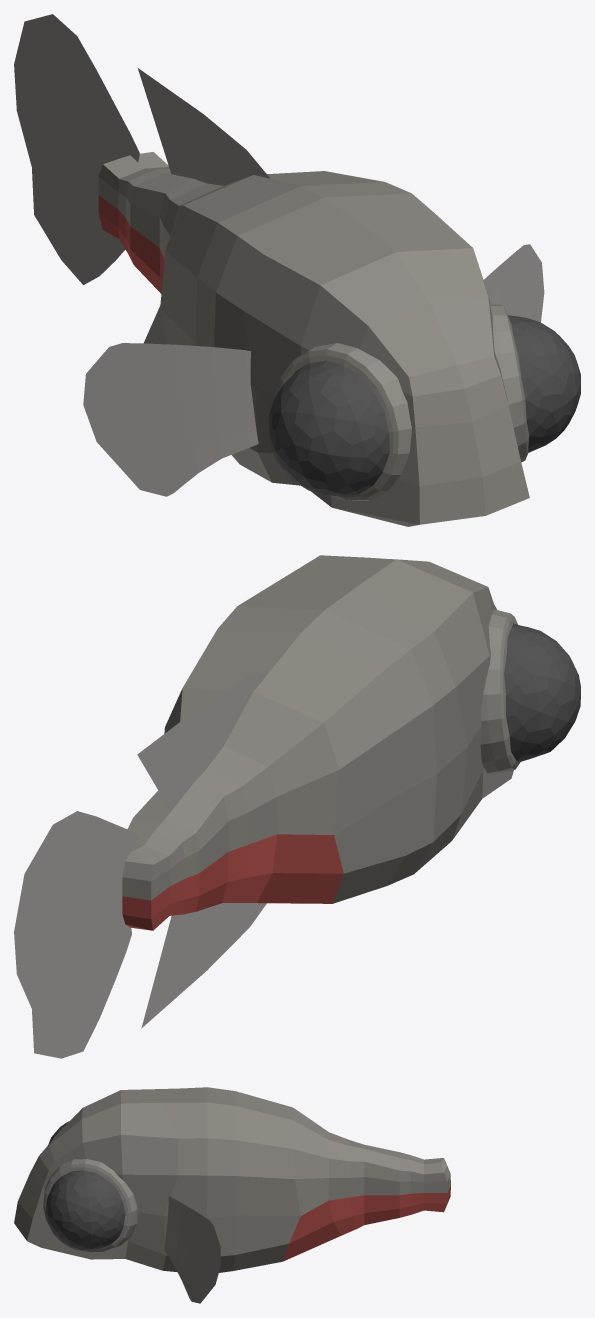
File: tetra.glb
The picture shows the model from 3 angles, top to bottom: view 1: azimuth 30°, elevation 25°; view 2: azimuth 150°, elevation 25°; view 3: azimuth 270°, elevation 25°; orthographic projection. The views are drawn at different scales.
Parts seen in each view (by area): view 1: cutefish__Tetra.glb; view 2: cutefish__Tetra.glb; view 3: cutefish__Tetra.glb.
Boxes of the visible parts, box(x1,y1,x2,y2) form: cutefish__Tetra.glb: box(14, 14, 580, 526); cutefish__Tetra.glb: box(14, 555, 580, 1058); cutefish__Tetra.glb: box(14, 1087, 450, 1303).
Size of the model in its own units: 2.98 by 1.75 by 5.27.
